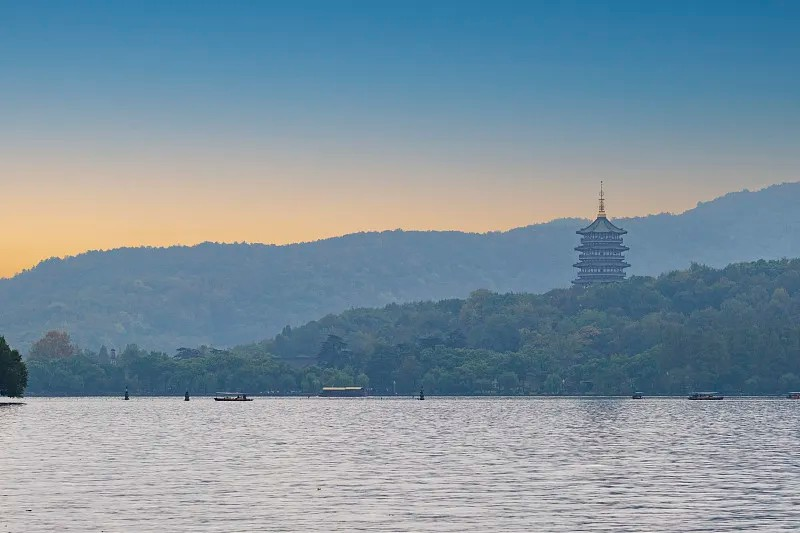Leifeng: (570, 179, 634, 287)
